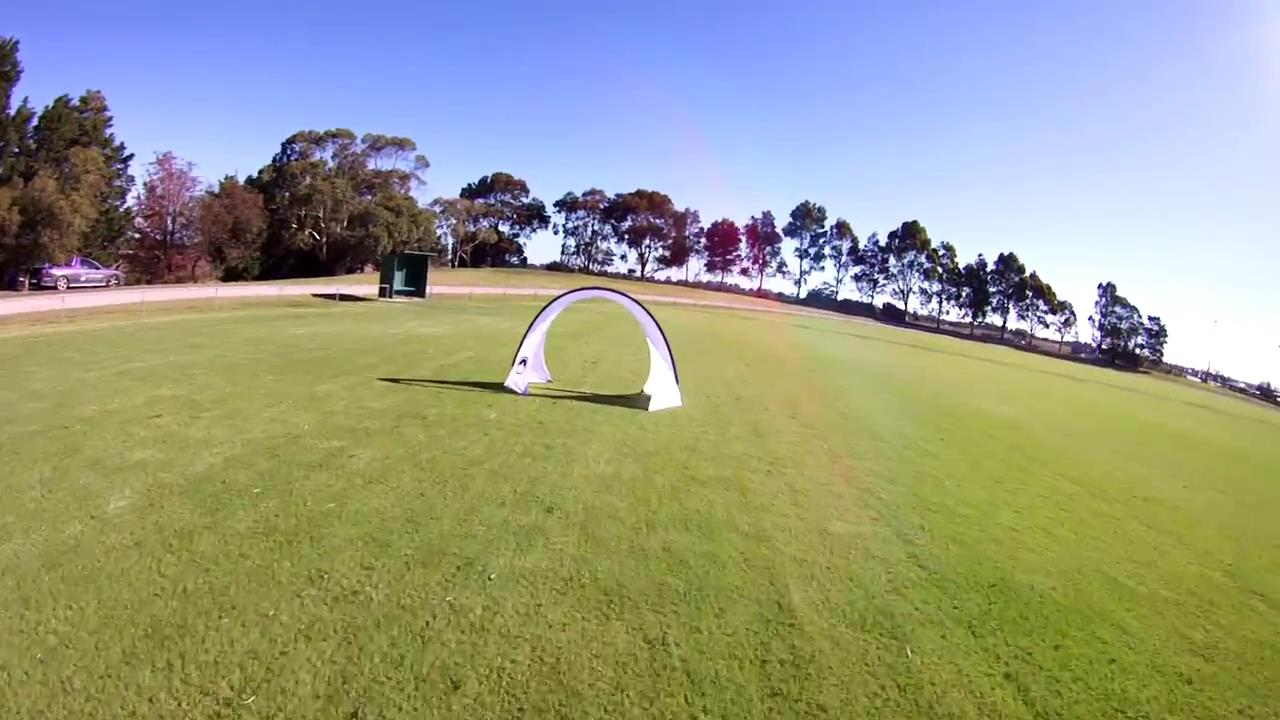gate: (503, 283, 685, 412)
